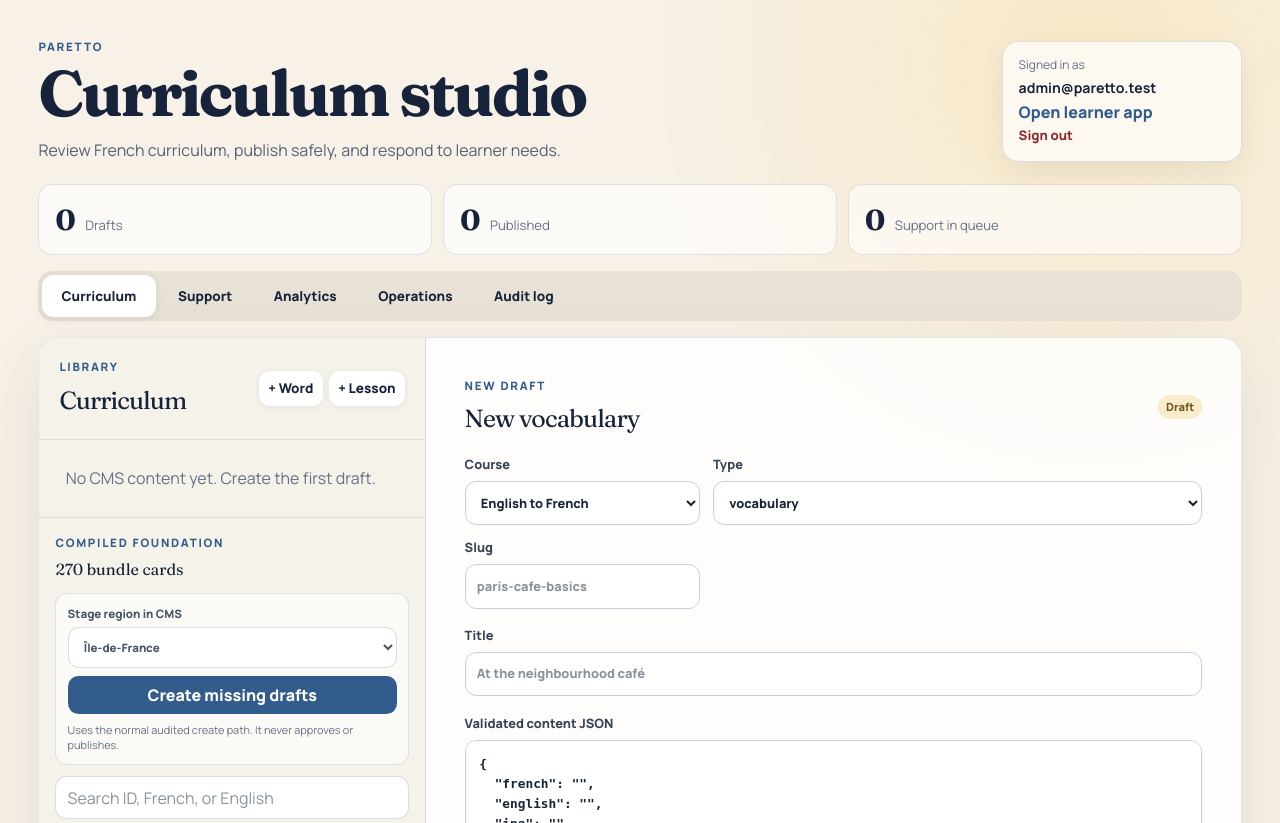
Test: admin and learner-care accessibility › loads the next page of legal holds without replacing the first page
Expected: the heading "Curriculum studio" is shown, x1=38 y1=62 x2=586 y2=125
What coordinates should you click on to do the following:
click the button "Operations"
I would click on:
 (415, 296)
Its box is x1=359 y1=275 x2=472 y2=317.
(page scrolled)
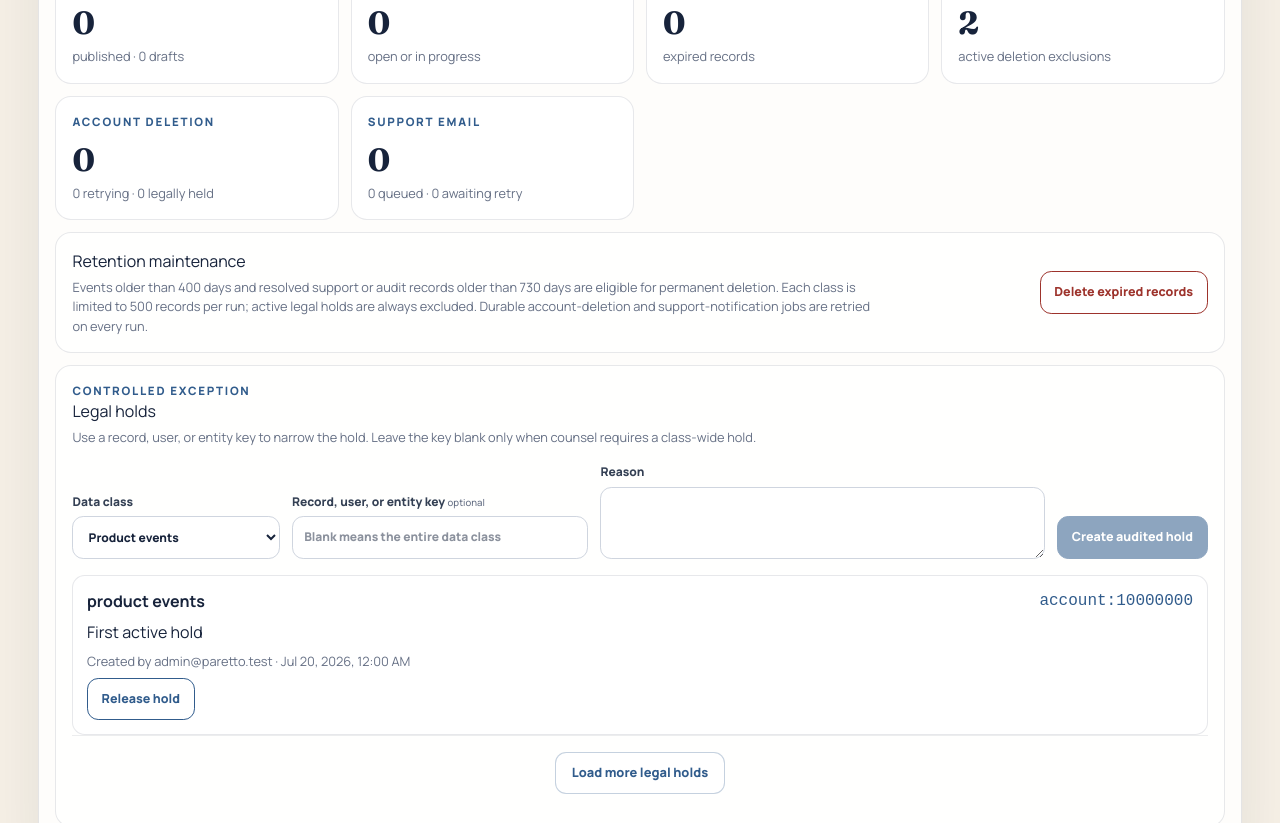
Result: the text "First active hold" is shown at x1=87 y1=621 x2=203 y2=643
What coordinates should you click on to do the following:
click the button "Load more legal holds"
I would click on:
 (640, 773)
Its box is x1=555 y1=752 x2=725 y2=794.
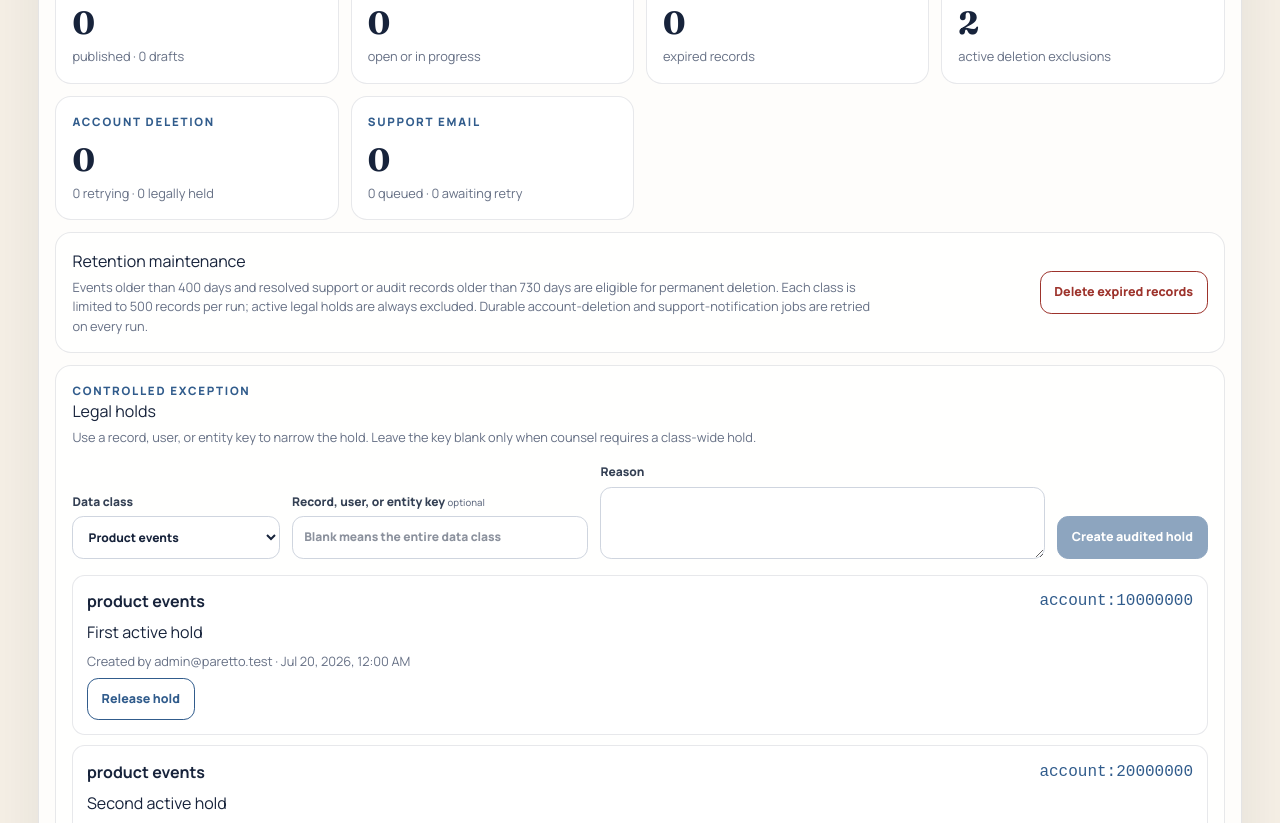
Result: the text "First active hold" is shown at x1=87 y1=621 x2=203 y2=643
Result: the text "Second active hold" is shown at x1=87 y1=792 x2=227 y2=814
